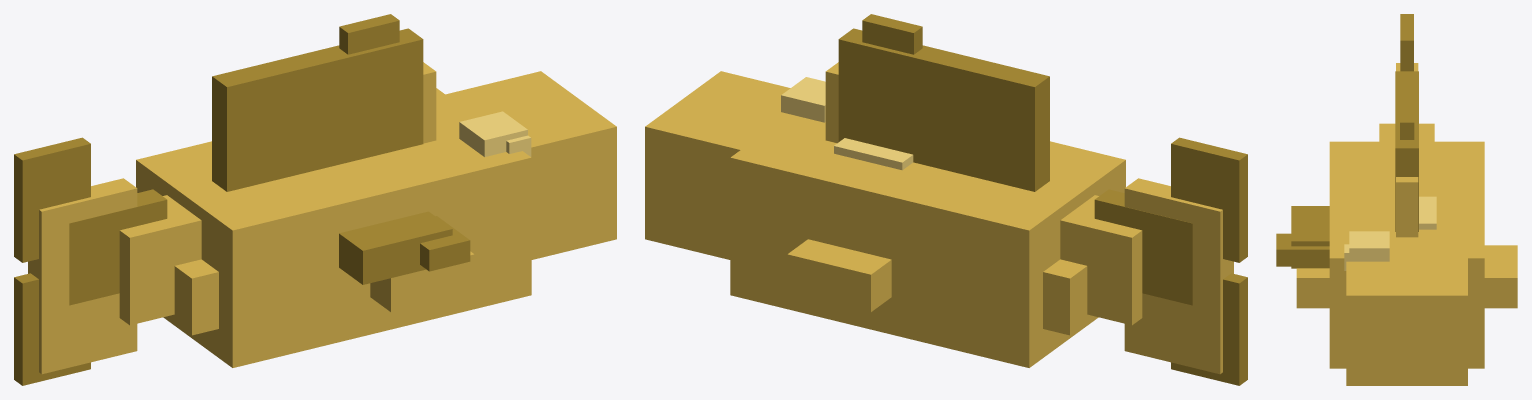
The model's file is fish_gilt_saffron.glb.
The picture shows the model from 3 angles, left to right: view 1: azimuth 30°, elevation 25°; view 2: azimuth 150°, elevation 25°; view 3: azimuth 270°, elevation 25°; orthographic projection. The views are drawn at different scales.
Visible parts, largest first — view 1: FishArt_body, FishArt_dorsal, FishArt_tail, FishArt_pectoral, FishArt_eye; view 2: FishArt_body, FishArt_dorsal, FishArt_tail, FishArt_eye, FishArt_specialty; view 3: FishArt_body, FishArt_pectoral, FishArt_dorsal, FishArt_eye, FishArt_tail, FishArt_specialty.
Part boxes in pixels (box(x1,y1,x2,y2)): FishArt_body: box(28, 62, 616, 374); FishArt_dorsal: box(212, 14, 423, 191); FishArt_tail: box(14, 137, 167, 385); FishArt_pectoral: box(339, 211, 470, 284); FishArt_eye: box(459, 111, 531, 156); FishArt_body: box(645, 62, 1233, 374); FishArt_dorsal: box(838, 14, 1049, 191); FishArt_tail: box(1094, 137, 1247, 385); FishArt_eye: box(781, 77, 825, 122); FishArt_specialty: box(834, 138, 913, 170); FishArt_body: box(1296, 63, 1517, 385); FishArt_pectoral: box(1276, 206, 1329, 268); FishArt_dorsal: box(1395, 71, 1418, 231); FishArt_eye: box(1344, 231, 1389, 270); FishArt_tail: box(1400, 14, 1413, 71); FishArt_specialty: box(1419, 196, 1436, 229).
Bounding box in the file's own units: 0.3091 × 0.1442 × 0.1439.
